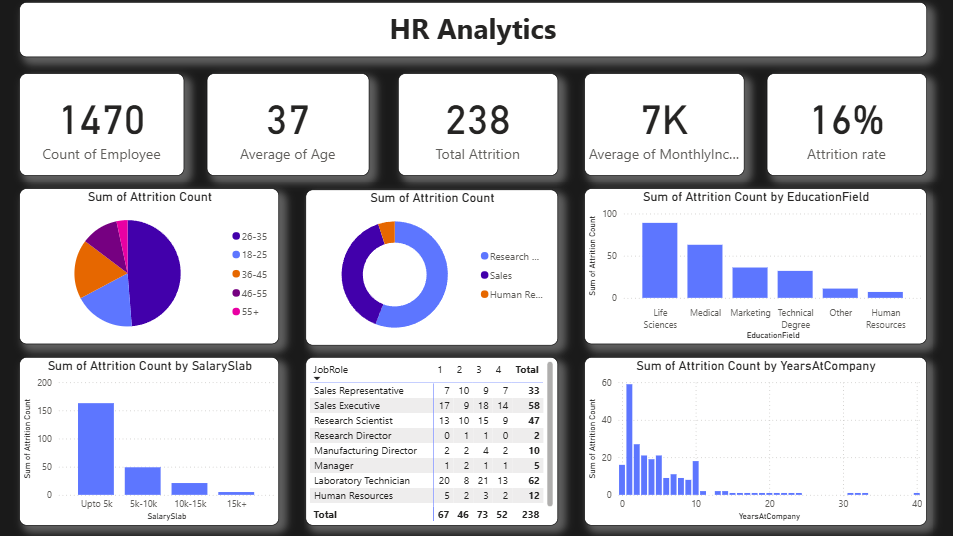

The dashboard page shown, as its layout file describes it:
{"tool":"powerbi","page":{"name":"Dashboard","canvas":[1280,720],"ordinal":0},"visuals":[{"type":"card","fields":{"Values":["Count(HR_Analytics (2).EmpID)"]},"box":[28.3,101.7,220,136.7],"z":0},{"type":"card","fields":{"Values":["Avg(HR_Analytics (2).Age)"]},"box":[278.3,101.7,216.7,136.7],"z":1000},{"type":"card","fields":{"Values":["Sum(HR_Analytics (2).Attrition Count)"]},"box":[533.3,101.7,213.3,136.7],"z":2000},{"type":"pieChart","title":"Sum of Attrition Count","fields":{"Category":["HR_Analytics (2).AgeGroup"],"Y":["Sum(HR_Analytics (2).Attrition Count)"]},"box":[28.3,255,346.7,208.3],"z":3000},{"type":"card","fields":{"Values":["Avg(HR_Analytics (2).MonthlyIncome)"]},"box":[781.7,101.7,213.3,136.7],"z":4000},{"type":"card","fields":{"Values":["HR_Analytics (2).Attrition rate"]},"box":[1025,101.7,213.3,136.7],"z":5000},{"type":"donutChart","title":"Sum of Attrition Count","fields":{"Y":["Sum(HR_Analytics (2).Attrition Count)"],"Category":["HR_Analytics (2).Department"]},"box":[410,256.7,336.7,208.3],"z":6000},{"type":"columnChart","fields":{"Category":["HR_Analytics (2).EducationField"],"Y":["Sum(HR_Analytics (2).Attrition Count)"]},"box":[781.7,255,456.7,208.3],"z":7000},{"type":"columnChart","fields":{"Category":["HR_Analytics (2).SalarySlab"],"Y":["Sum(HR_Analytics (2).Attrition Count)"]},"box":[28.3,480,346.7,225],"z":8000},{"type":"columnChart","fields":{"Y":["Sum(HR_Analytics (2).Attrition Count)"],"Category":["HR_Analytics (2).YearsAtCompany"]},"box":[781.7,480,456.7,225],"z":9000},{"type":"pivotTable","fields":{"Rows":["HR_Analytics (2).JobRole"],"Columns":["HR_Analytics (2).JobSatisfaction"],"Values":["Sum(HR_Analytics (2).Attrition Count)"]},"box":[410,480,336.7,225],"z":10000},{"type":"textbox","box":[28.3,6.7,1210,73.3],"z":11000}]}

Visuals, with their boxes in screenshot pixels (x1, y1, x2, y2), scaled from the page's 1280x720 canvas onto the 953x536 screenshot:
card - Count(HR_Analytics (2).EmpID): bbox(21, 76, 185, 177)
card - Avg(HR_Analytics (2).Age): bbox(207, 76, 369, 177)
card - Sum(HR_Analytics (2).Attrition Count): bbox(397, 76, 556, 177)
"Sum of Attrition Count" pieChart: bbox(21, 190, 279, 345)
card - Avg(HR_Analytics (2).MonthlyIncome): bbox(582, 76, 741, 177)
card - HR_Analytics (2).Attrition rate: bbox(763, 76, 922, 177)
"Sum of Attrition Count" donutChart: bbox(305, 191, 556, 346)
columnChart - HR_Analytics (2).EducationField x Sum(HR_Analytics (2).Attrition Count): bbox(582, 190, 922, 345)
columnChart - HR_Analytics (2).SalarySlab x Sum(HR_Analytics (2).Attrition Count): bbox(21, 357, 279, 525)
columnChart - Sum(HR_Analytics (2).Attrition Count) x HR_Analytics (2).YearsAtCompany: bbox(582, 357, 922, 525)
pivotTable - HR_Analytics (2).JobRole x HR_Analytics (2).JobSatisfaction: bbox(305, 357, 556, 525)
textbox: bbox(21, 5, 922, 60)
